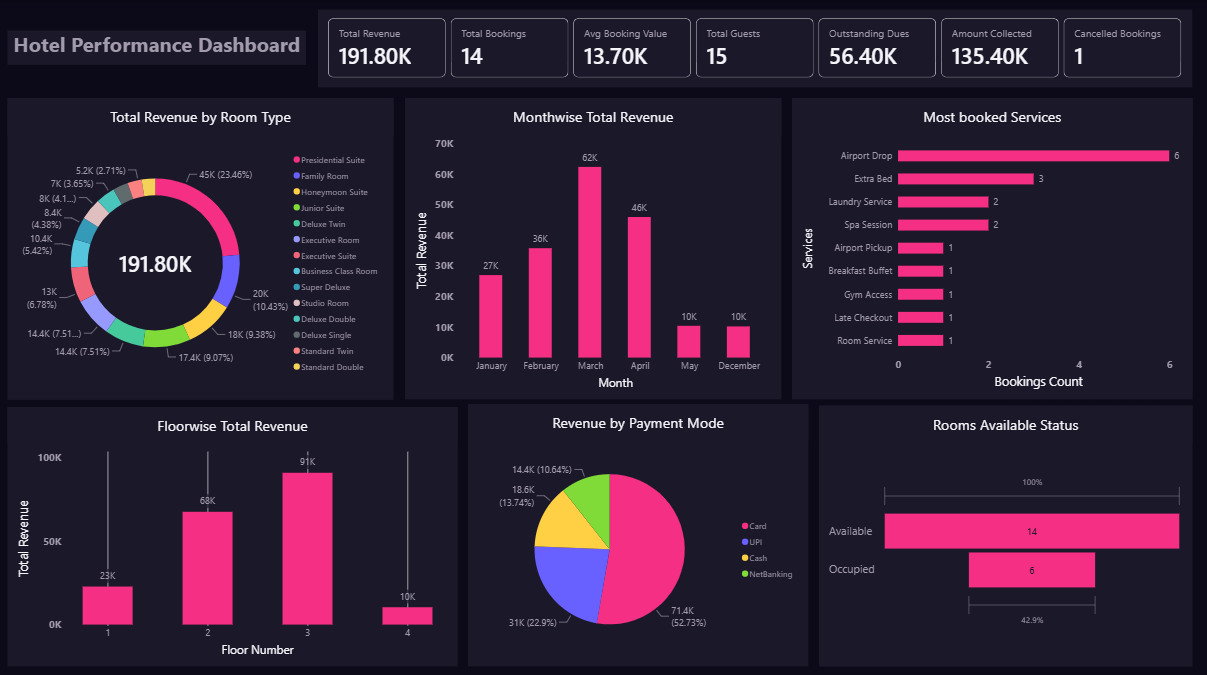

The dashboard page shown, as its layout file describes it:
{"tool":"powerbi","page":{"name":"Page 1","canvas":[1920,1080],"ordinal":0},"visuals":[{"type":"textbox","box":[11.9,50.1,474.8,54.9],"z":0},{"type":"cardVisual","fields":{"Data":["bookings_info.Total Revenue","bookings_info.Total_Bookings","bookings_info.Avg Booking Value","bookings_info.Total Guests","bookings_info.Outstanding Dues","bookings_info.Amount Collected","bookings_info.Cancelled Bookings"]},"box":[505.8,16.7,1391,124.1],"z":1},{"type":"donutChart","title":"Total Revenue by Room Type","fields":{"Category":["room_types.type_name"],"Y":["bookings_info.Total Revenue"]},"box":[12,158.3,614.1,479.8],"z":2},{"type":"columnChart","title":"Monthwise Total Revenue","fields":{"Category":["bookings_info.booking_date.Variation.Date Hierarchy.Month"],"Y":["bookings_info.Total Revenue"]},"box":[644.2,157.5,598.9,479.6],"z":3},{"type":"barChart","title":"Most booked Services","fields":{"Category":["all_services.service_name"],"Y":["Sum(booking_services.quantity)"]},"box":[1259.8,157.5,637,479.6],"z":4},{"type":"pieChart","title":"Revenue by Payment Mode","fields":{"Category":["all_payments.payment_mode"],"Y":["all_payments.total_collected"]},"box":[744.4,644.2,541.6,417.5],"z":5},{"type":"funnel","title":"Rooms Available Status","fields":{"Category":["rooms_available.status"],"Y":["rooms_available.room_count"]},"box":[1302.7,646.6,594.1,415.1],"z":6},{"type":"lineStackedColumnComboChart","title":"Floorwise Total Revenue","fields":{"Category":["rooms_available.floor_number"],"Y":["bookings_info.Total Revenue"]},"box":[11.9,649,715.8,412.8],"z":7}]}

Visuals, with their boxes in screenshot pixels (x1, y1, x2, y2), scaled from the page's 1920x1080 canvas onto the 1207x675 screenshot:
textbox: 7 31 306 66
cardVisual - bookings_info.Total Revenue x bookings_info.Total_Bookings: 318 10 1192 88
"Total Revenue by Room Type" donutChart: 8 99 394 399
"Monthwise Total Revenue" columnChart: 405 98 781 398
"Most booked Services" barChart: 792 98 1192 398
"Revenue by Payment Mode" pieChart: 468 403 808 664
"Rooms Available Status" funnel: 819 404 1192 664
"Floorwise Total Revenue" lineStackedColumnComboChart: 7 406 457 664
